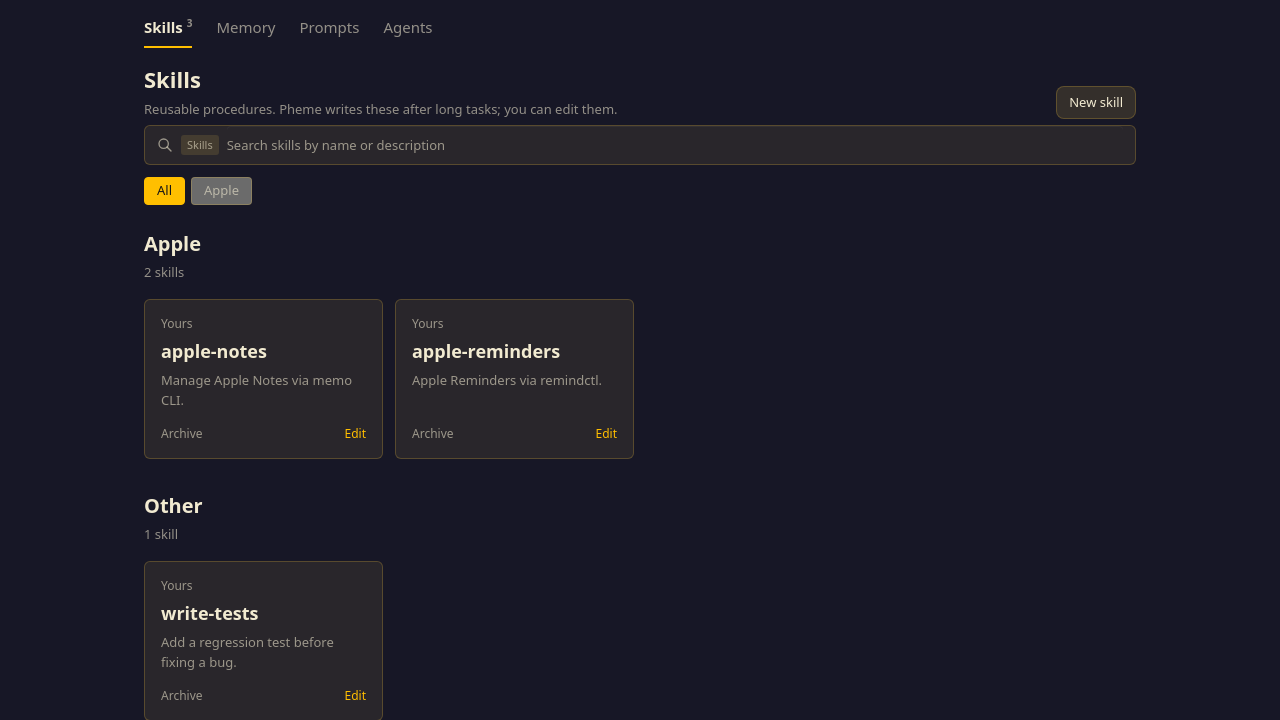
Test: Capabilities page › filters the cards with search and the category chips
Expected: the button "write-tests" is shown, [161,602,258,624]
Type "apple" into the field labelled "Search skills".
click(675, 145); type("apple")  # box [227,126,1123,164]
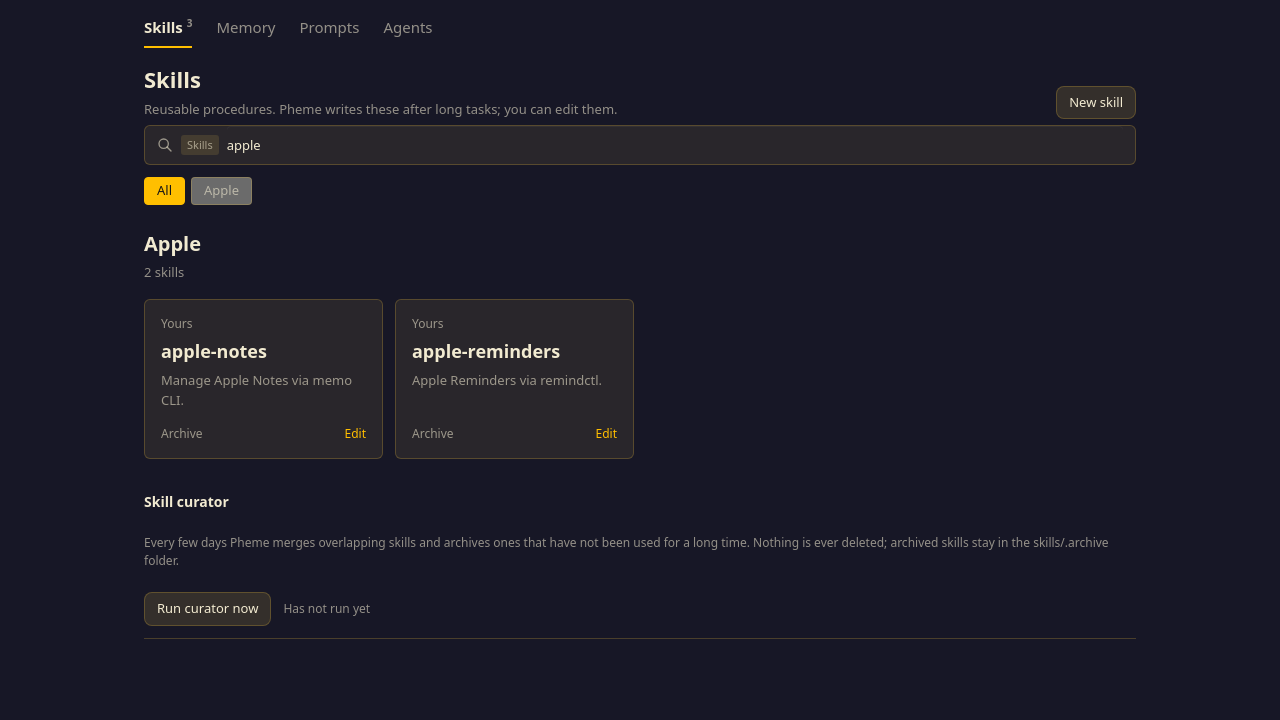
Result: the button "write-tests" is gone
Clear the field named "Search skills" at (675, 145), box [227,126,1123,164]
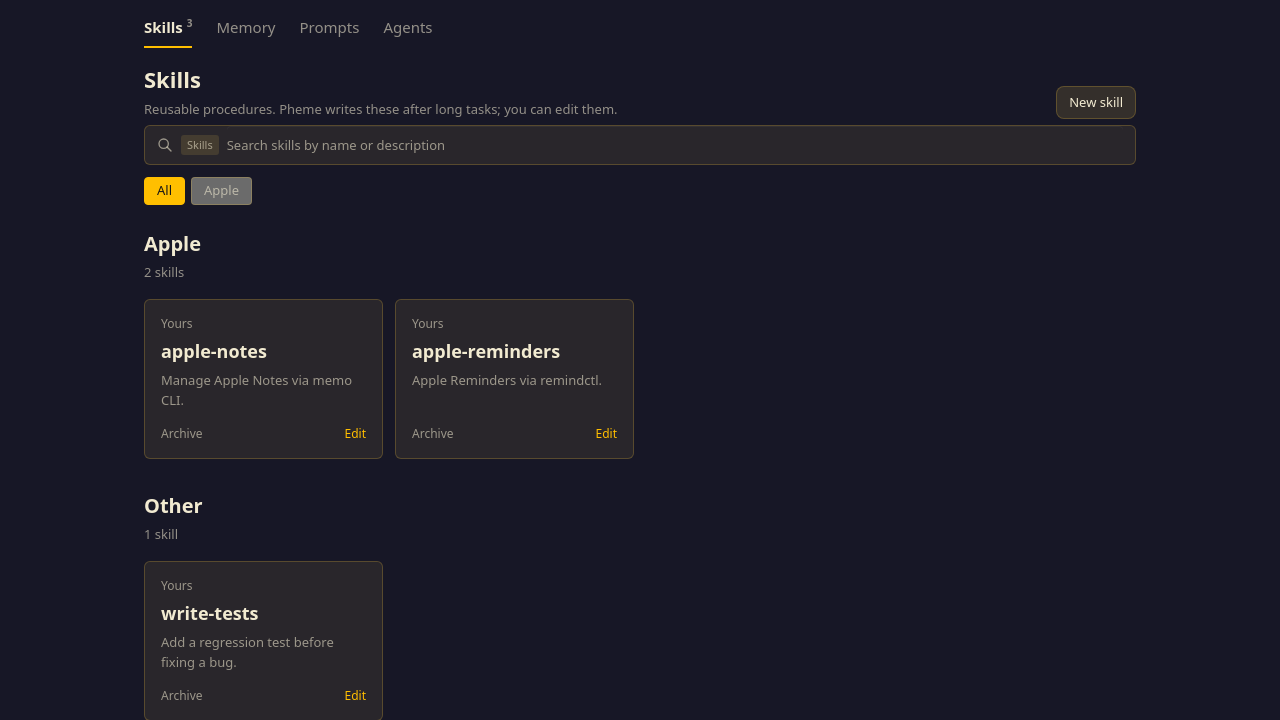
Click the button "Apple".
click(222, 191)  # box [191,177,252,205]
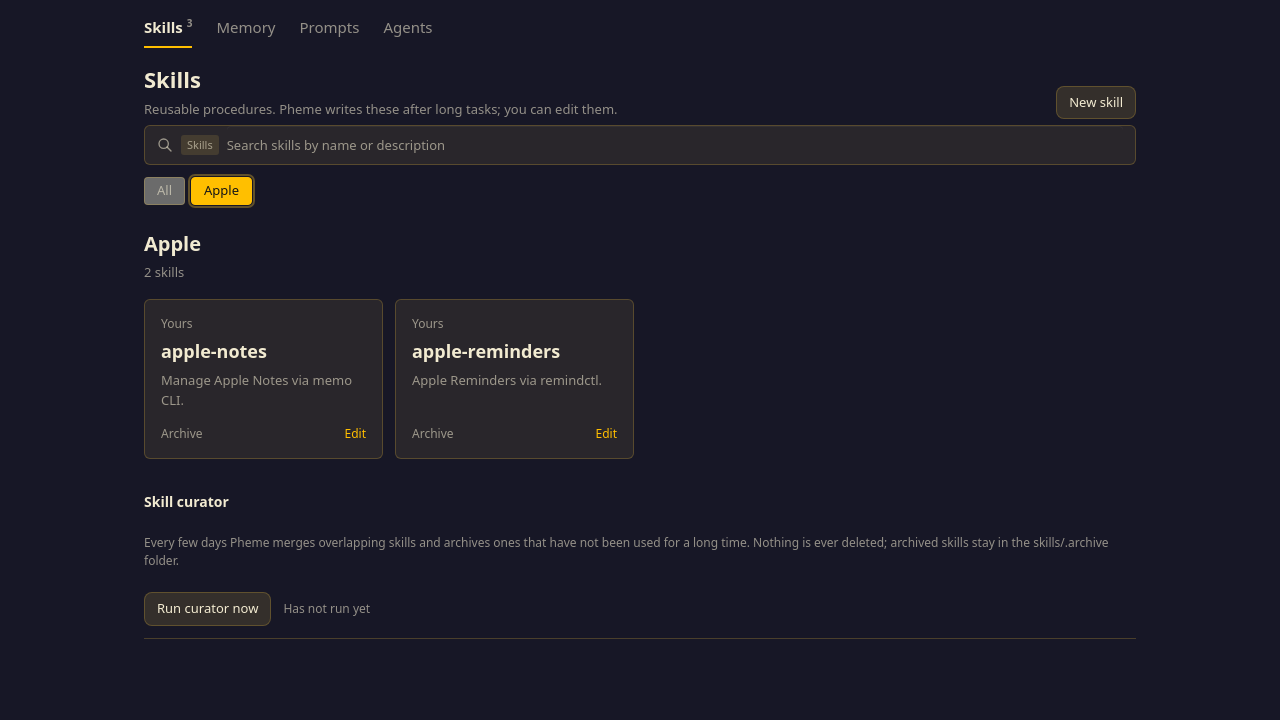
Result: the button "write-tests" is gone
Click the button "All".
click(164, 191)  # box [144,177,185,205]
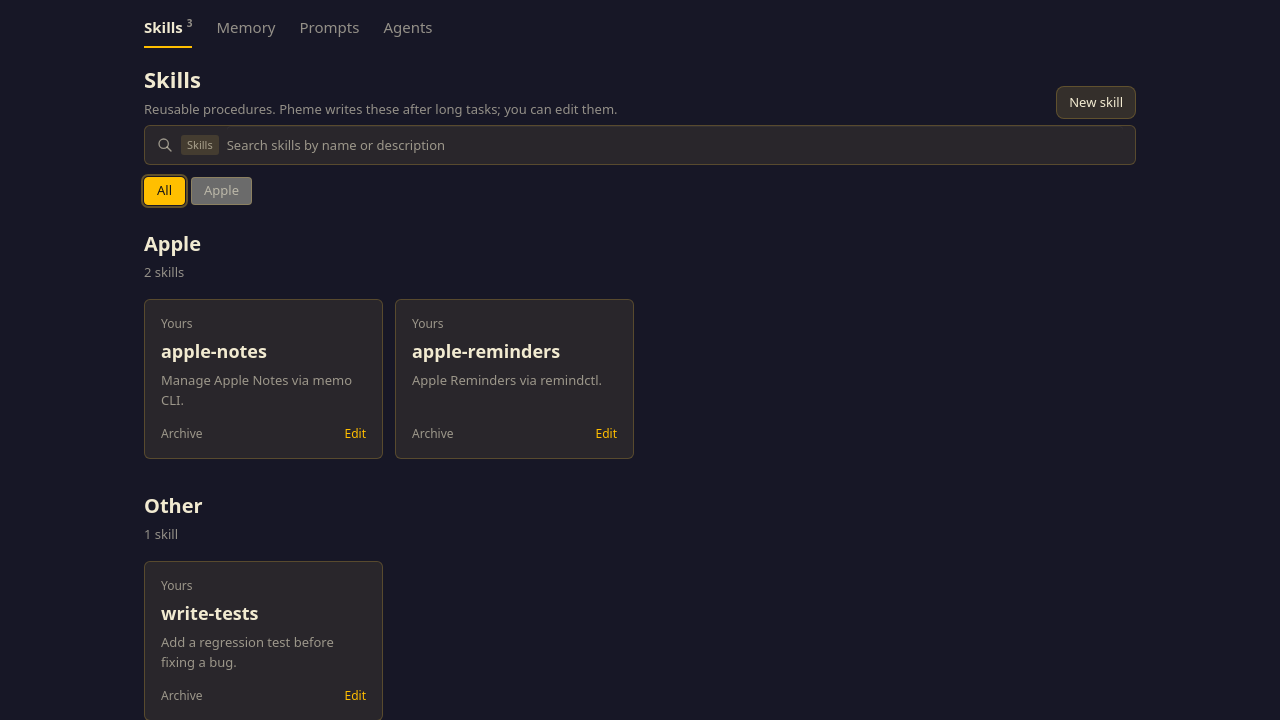
Expected: the element "Apple" is shown, [144,230,634,459]
Result: the button "write-tests" is shown at [161,602,258,624]
